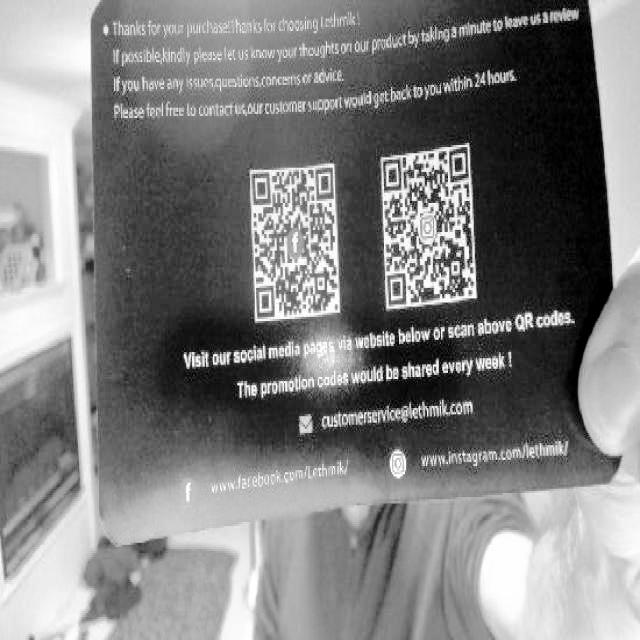qr_code: (370, 136, 481, 316), (244, 145, 344, 332)
